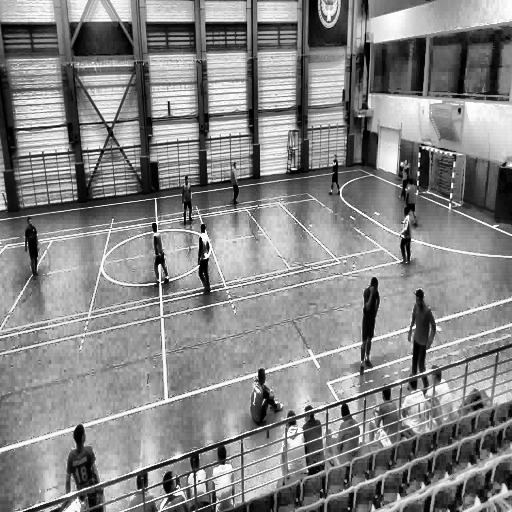ball: (400, 160, 404, 168)
player: (408, 288, 437, 382), (359, 276, 381, 372), (152, 220, 170, 286), (197, 222, 212, 294), (24, 218, 39, 277), (399, 205, 412, 266), (182, 174, 193, 224), (398, 159, 409, 202), (329, 156, 340, 197), (230, 161, 239, 205)
